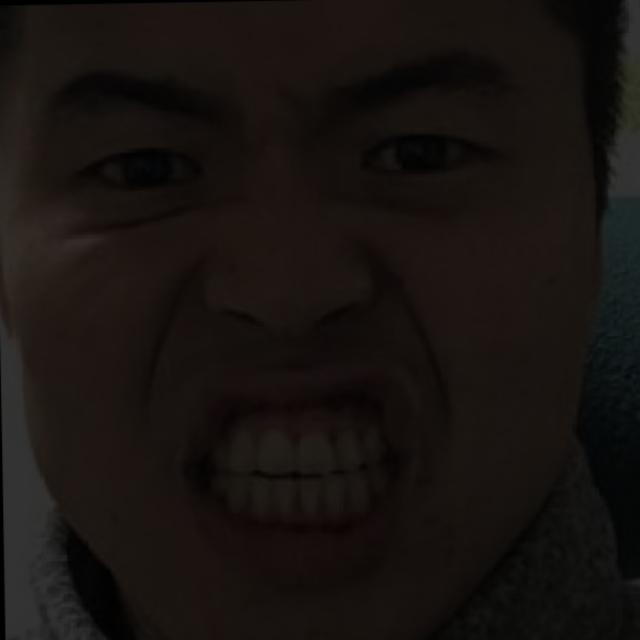Angry: (21, 19, 563, 600)
